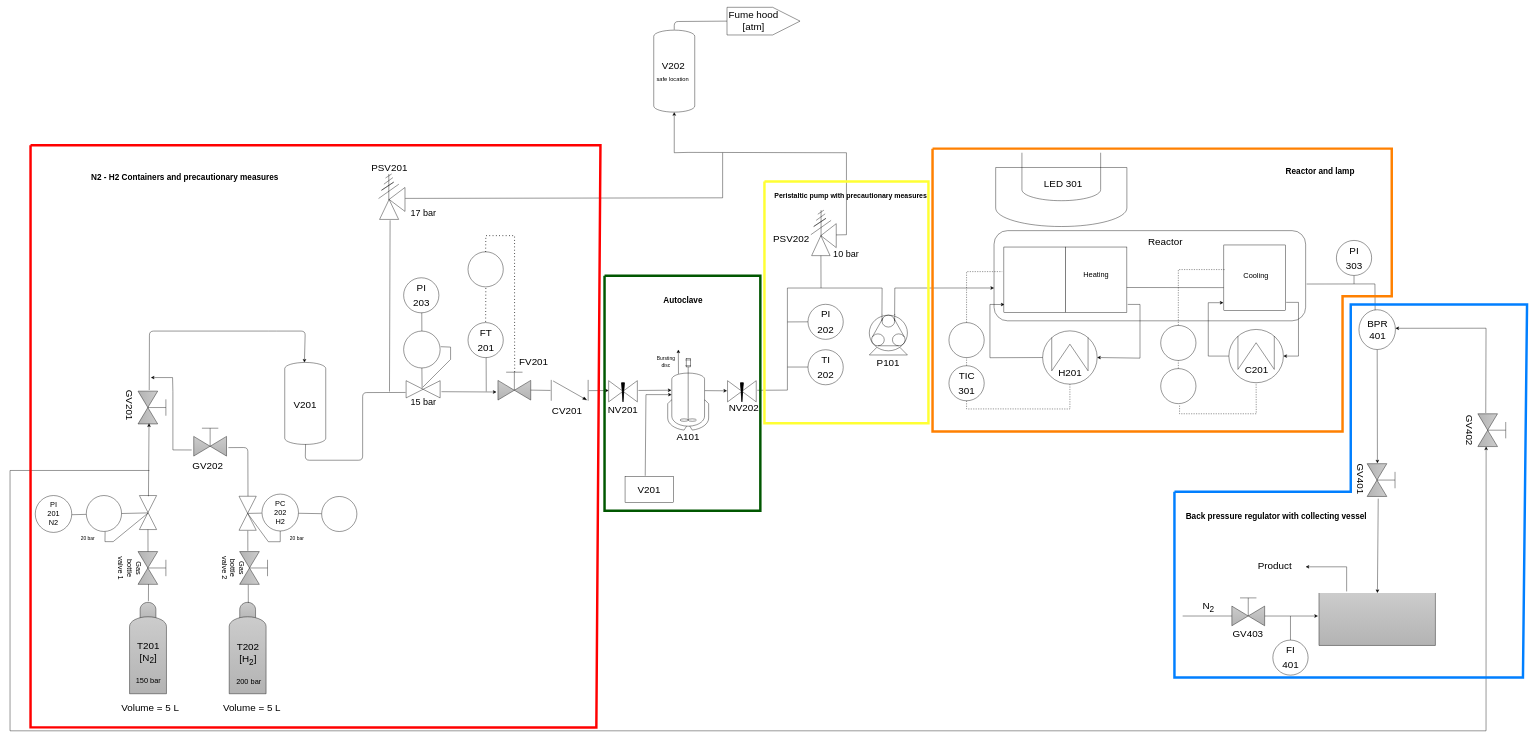
The diagram is 1536 pixels wide and 741 high, and some of its shapes have lost their labels. Each missing label, with the centre of its shape:
"FIC 201" goes at (x=485, y=269).
"Mixing" goes at (x=1034, y=280).
"PC 201 N2" goes at (x=104, y=513).
"PC 203" goes at (x=421, y=349).
"PI 202 H2" goes at (x=339, y=514).
"TIC 302" goes at (x=1178, y=386).
"TT 301" goes at (x=966, y=340).
"TT 302" goes at (x=1178, y=342).
"V301" goes at (x=1377, y=619).
